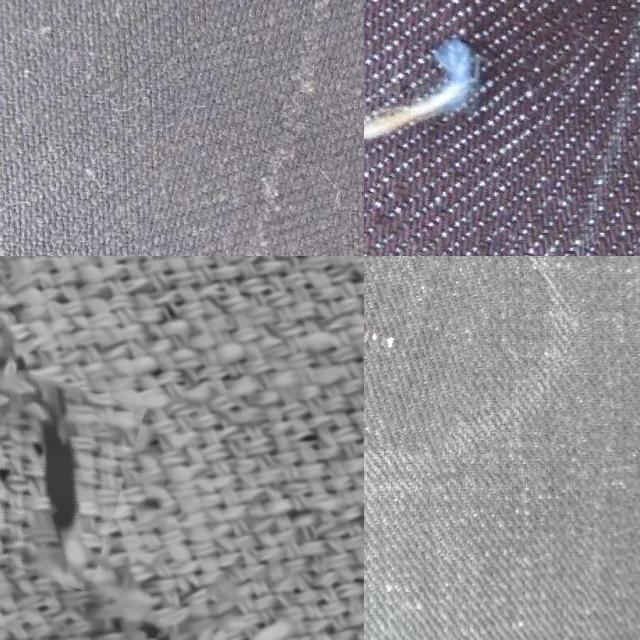Thread_other: (109, 0, 364, 256), (364, 0, 595, 256), (364, 256, 487, 446)
seam: (0, 376, 133, 583)
